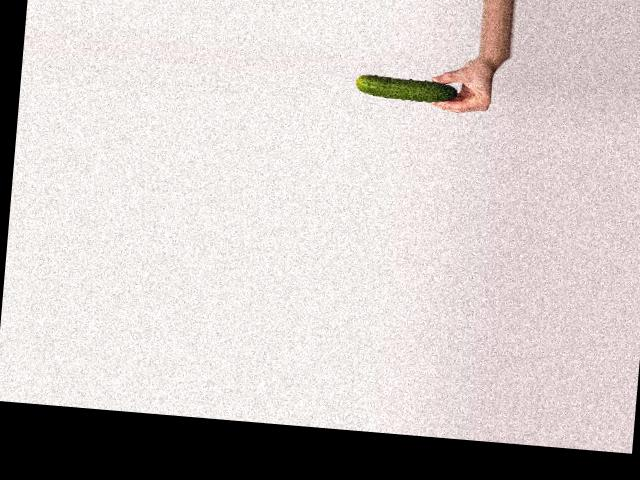cucumber: (355, 75, 458, 104)
